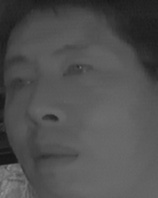eye: (62, 59, 94, 82), (5, 73, 32, 95)
mouth: (29, 139, 83, 172)
